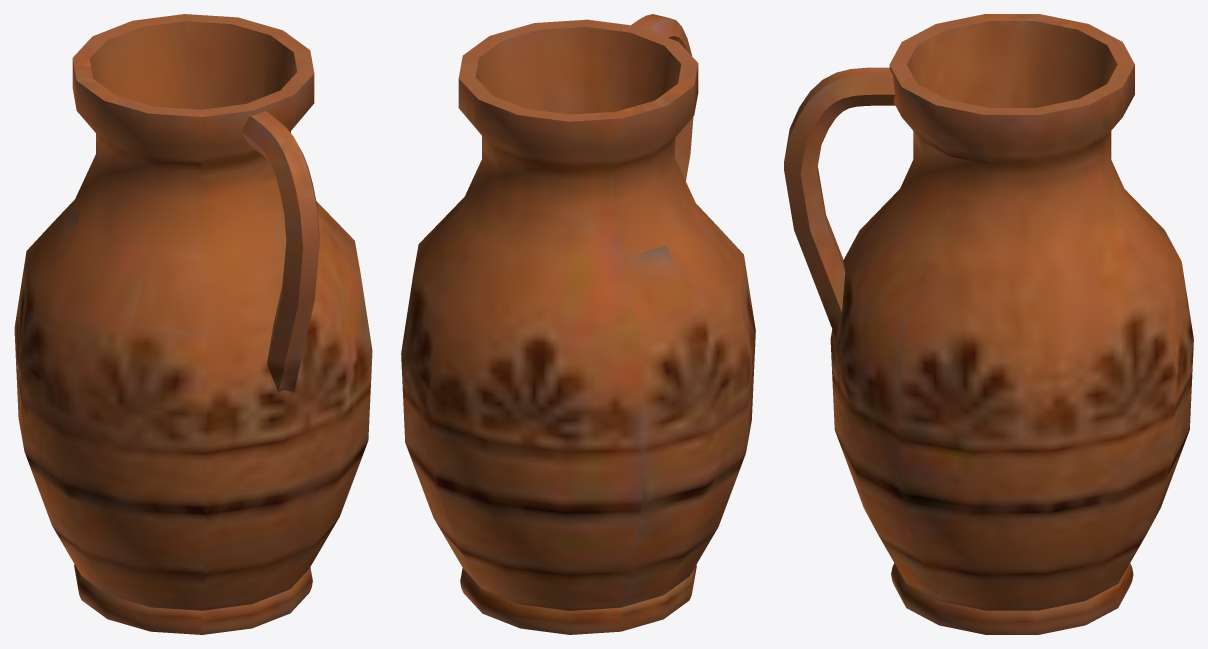
File: SM_vase_04.glb
The picture shows the model from 3 angles, left to right: view 1: azimuth 30°, elevation 25°; view 2: azimuth 150°, elevation 25°; view 3: azimuth 270°, elevation 25°; orthographic projection.
Visible parts, largest first — view 1: SM_vase_04; view 2: SM_vase_04; view 3: SM_vase_04.
Part boxes in pixels (left/top/right/bottom): SM_vase_04: left=14, top=14, right=372, bottom=634; SM_vase_04: left=401, top=14, right=755, bottom=634; SM_vase_04: left=784, top=14, right=1193, bottom=634.
Size of the model in its own units: 0.3536 by 0.5748 by 0.4092.
1 material, 1 textured.
